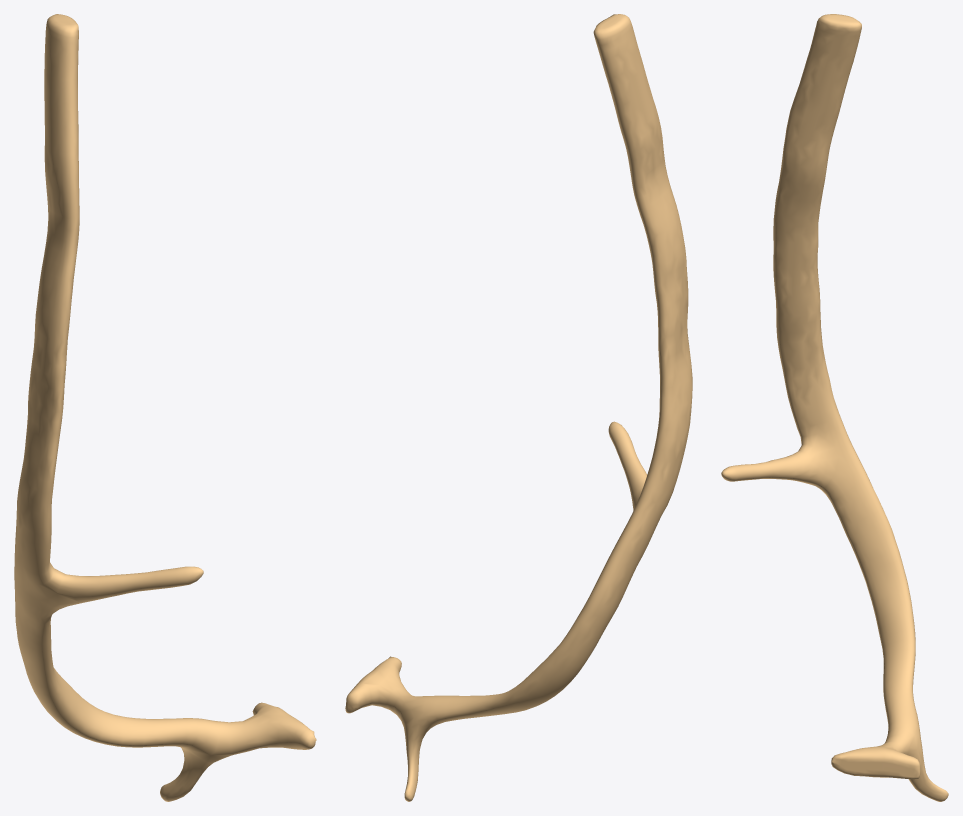
3 views of the same model, side by side, from view 1: azimuth 30°, elevation 25°; view 2: azimuth 150°, elevation 25°; view 3: azimuth 270°, elevation 25° (orthographic). The views are drawn at different scales.
Parts seen in each view (by area): view 1: N_T1.obj; view 2: N_T1.obj; view 3: N_T1.obj.
Boxes of the visible parts, bbox=[...] form: N_T1.obj: bbox=[14, 14, 316, 801]; N_T1.obj: bbox=[345, 14, 692, 801]; N_T1.obj: bbox=[721, 14, 948, 801].
Bounding box in the file's own units: 0.00116 × 0.0031 × 0.00089.
